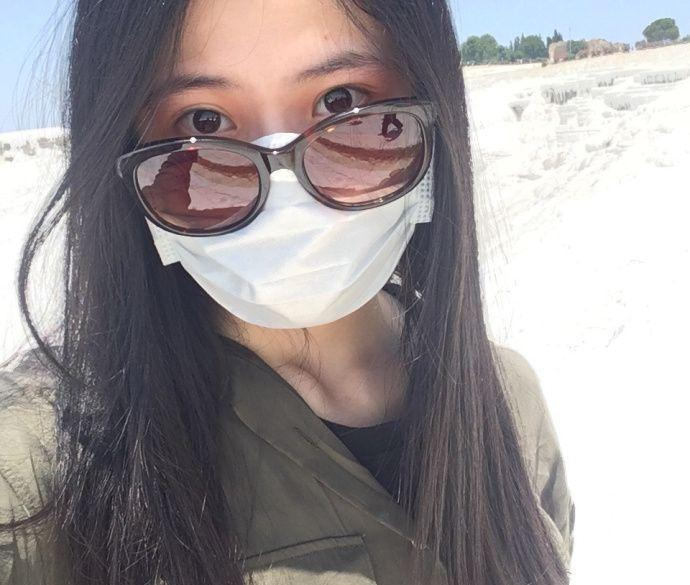OK: (138, 34, 434, 330)
